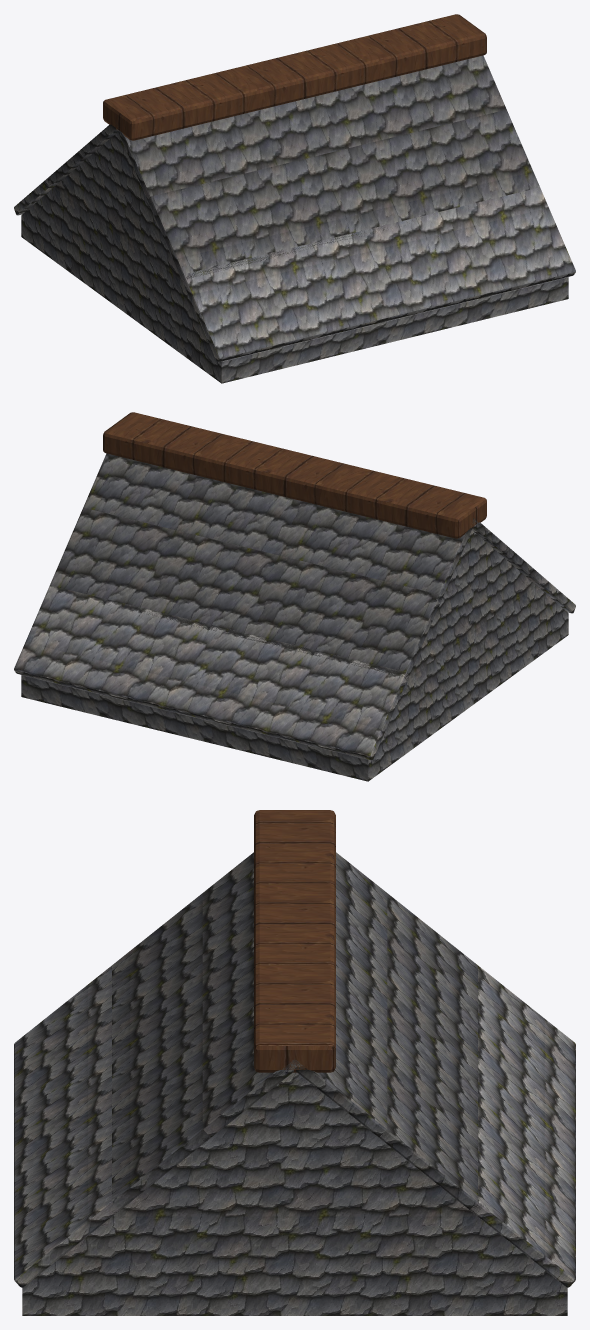
Rendered from roof_45_ridge__cut_stone.glb.
The picture shows the model from 3 angles, top to bottom: view 1: azimuth 30°, elevation 25°; view 2: azimuth 150°, elevation 25°; view 3: azimuth 270°, elevation 25°; orthographic projection. The views are drawn at different scales.
Parts seen in each view (by area): view 1: model; view 2: model; view 3: model.
Boxes of the visible parts, left/top/right/bottom form: model: left=14, top=14, right=575, bottom=383; model: left=14, top=412, right=575, bottom=781; model: left=14, top=810, right=575, bottom=1315.
Bounding box in the file's own units: 2.06 × 1.11 × 2.06.
4 materials, 4 textured.
